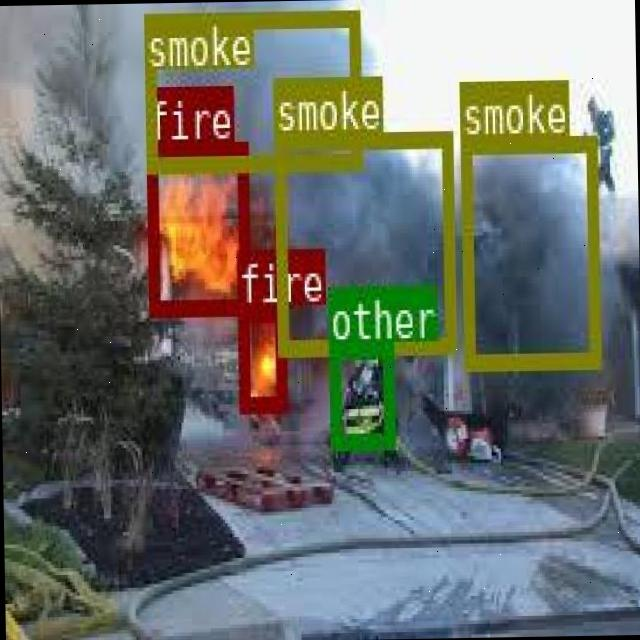fire: (146, 139, 247, 314), (236, 304, 284, 408)
smoke: (272, 128, 454, 352), (143, 7, 360, 169), (459, 134, 598, 368)
